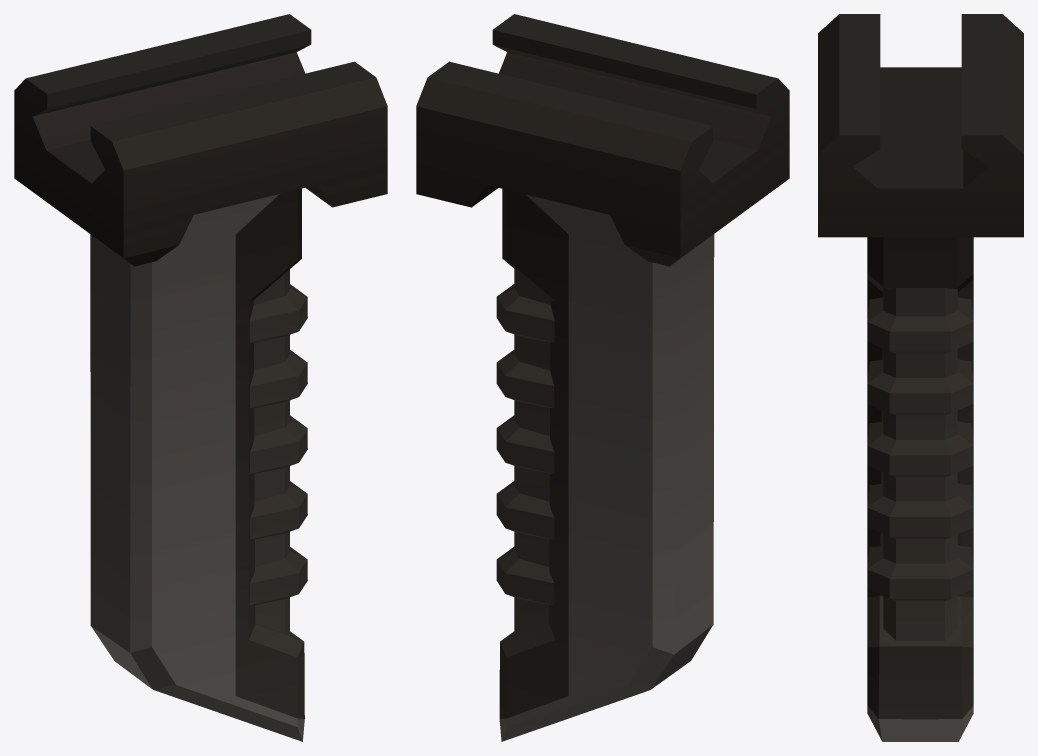
The model's file is Foregrip_Vertical_07.fbx.
3 views of the same model, side by side, from view 1: azimuth 30°, elevation 25°; view 2: azimuth 150°, elevation 25°; view 3: azimuth 270°, elevation 25° (orthographic). The views are drawn at different scales.
Visible parts, largest first — view 1: Foregrip_Vertical_07; view 2: Foregrip_Vertical_07; view 3: Foregrip_Vertical_07.
Boxes of the visible parts, bbox=[...] form: Foregrip_Vertical_07: bbox=[14, 14, 387, 741]; Foregrip_Vertical_07: bbox=[416, 14, 789, 741]; Foregrip_Vertical_07: bbox=[818, 14, 1023, 741].
Bounding box in the file's own units: 5.46 × 13.21 × 3.91.
